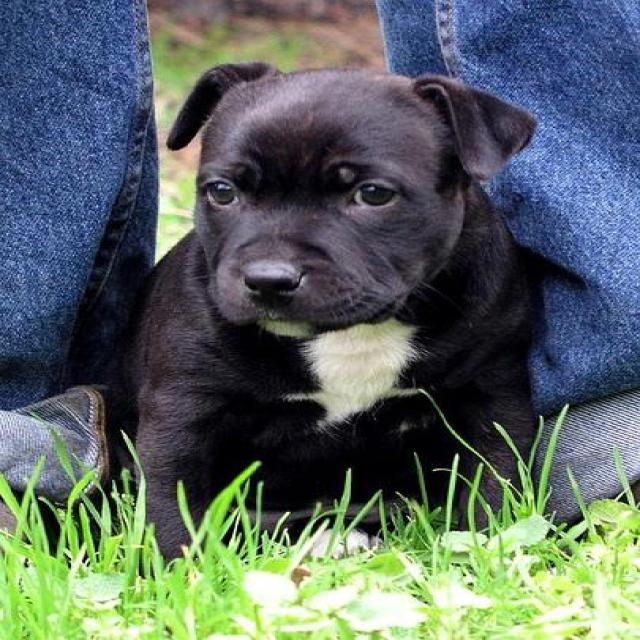staffordshire_bullterrier: (138, 61, 534, 578)
